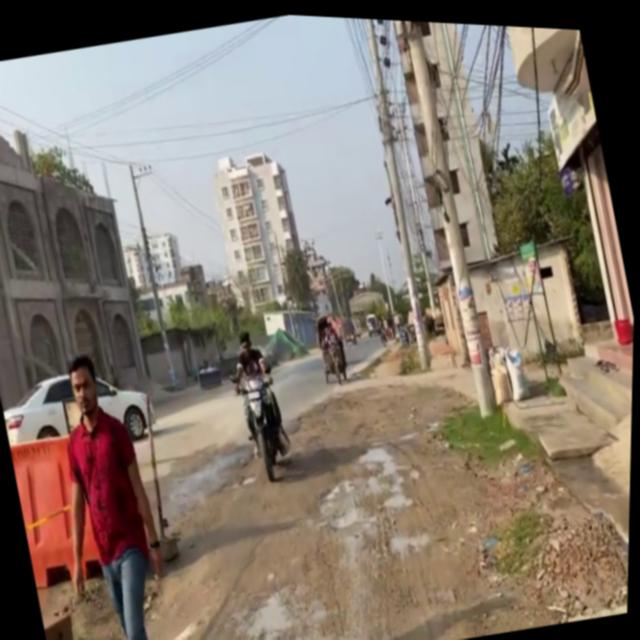Construction-barrier: (345, 337, 396, 378)
Fallen-tree: (226, 358, 301, 485), (317, 327, 353, 383)
Garbage: (126, 387, 189, 561)
Garbage-bin: (27, 343, 195, 640), (221, 322, 291, 452)
Light-pole: (389, 16, 506, 415), (344, 14, 447, 367)
Stuck-water: (492, 311, 635, 456)
